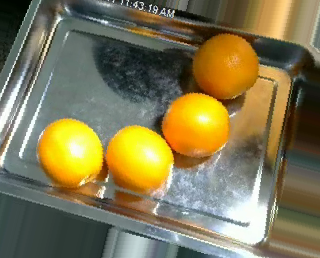Orange: (105, 123, 173, 192), (36, 116, 103, 186), (191, 33, 259, 99), (161, 91, 230, 156)
